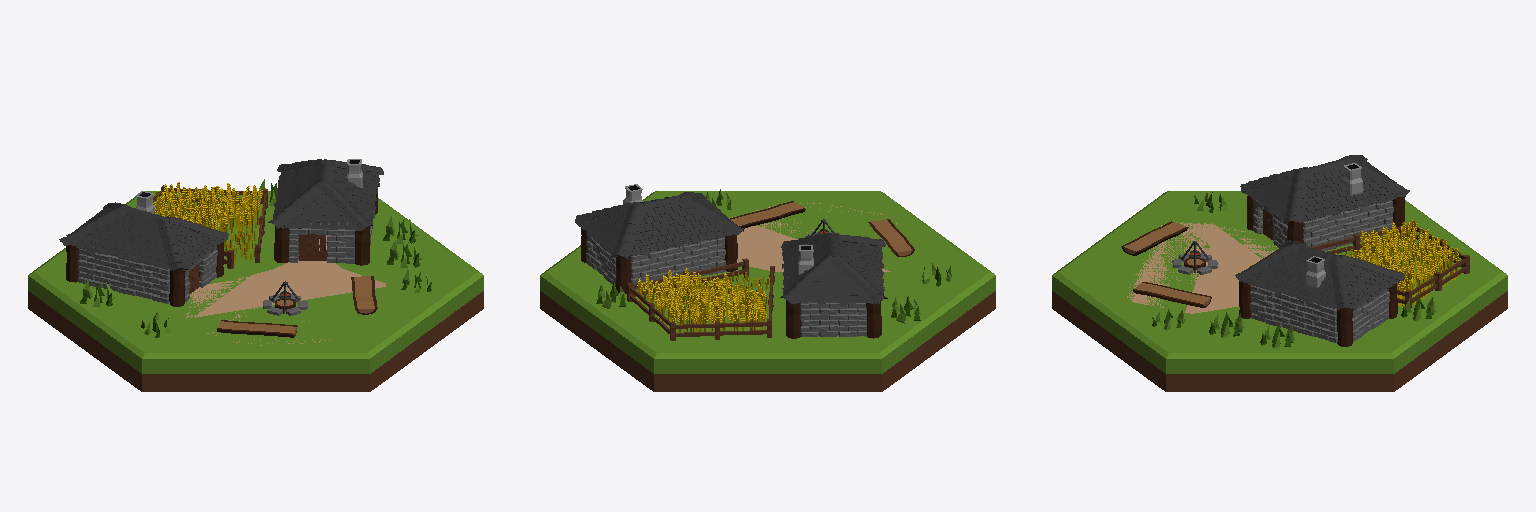
3 renders of one model, left to right at view 1: azimuth 30°, elevation 25°; view 2: azimuth 150°, elevation 25°; view 3: azimuth 270°, elevation 25°, orthographic.
Parts seen in each view (by area): view 1: Village_Tile, Roof_1.001, Roof_1, House_Walls.002, House_Walls, Wheat_Grown.001, Wheat_Grown.003, Bench.001, Bench, Door.001, Fence, Fire_Pit.001; view 2: Village_Tile, Roof_1, Roof_1.001, House_Walls, House_Walls.002, Fence, Wheat_Grown.003, Wheat_Grown.001, Bench, Bench.001; view 3: Village_Tile, Roof_1.001, Roof_1, House_Walls, House_Walls.002, Wheat_Grown.001, Wheat_Grown.003, Fence, Bench, Bench.001, Fire_Pit.001.
Part boxes in pixels (x1,y1,x2,y2): Village_Tile: (28, 191, 483, 391); Roof_1.001: (59, 202, 228, 271); Roof_1: (268, 159, 383, 230); House_Walls.002: (66, 242, 223, 306); House_Walls: (274, 175, 377, 265); Wheat_Grown.001: (153, 182, 262, 233); Wheat_Grown.003: (153, 184, 259, 233); Bench.001: (217, 320, 297, 337); Bench: (351, 276, 377, 314); Door.001: (299, 234, 326, 260); Fence: (153, 185, 267, 268); Fire_Pit.001: (263, 294, 307, 315); Village_Tile: (540, 191, 995, 391); Roof_1: (575, 192, 743, 258); Roof_1.001: (780, 232, 887, 303); House_Walls: (581, 218, 737, 293); House_Walls.002: (786, 248, 881, 338); Fence: (627, 258, 774, 340); Wheat_Grown.003: (644, 270, 766, 336); Wheat_Grown.001: (637, 268, 763, 335); Bench: (730, 201, 805, 228); Bench.001: (868, 219, 914, 256); Village_Tile: (1052, 191, 1507, 391); Roof_1.001: (1240, 155, 1409, 222); Roof_1: (1235, 240, 1404, 310); House_Walls: (1239, 279, 1397, 346); House_Walls.002: (1247, 194, 1404, 250); Wheat_Grown.001: (1353, 220, 1458, 299); Wheat_Grown.003: (1357, 222, 1457, 293); Fence: (1311, 221, 1469, 307); Bench: (1133, 282, 1211, 307); Bench.001: (1121, 221, 1188, 255); Fire_Pit.001: (1172, 253, 1217, 274).
Bounding box in the file's own units: 1.7 × 0.5001 × 1.96.
Materials: 1 (1 with a texture image).